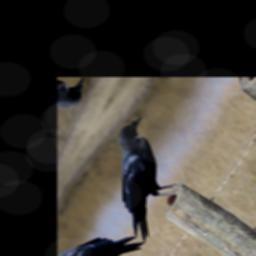Crow: (77, 109, 203, 244)
